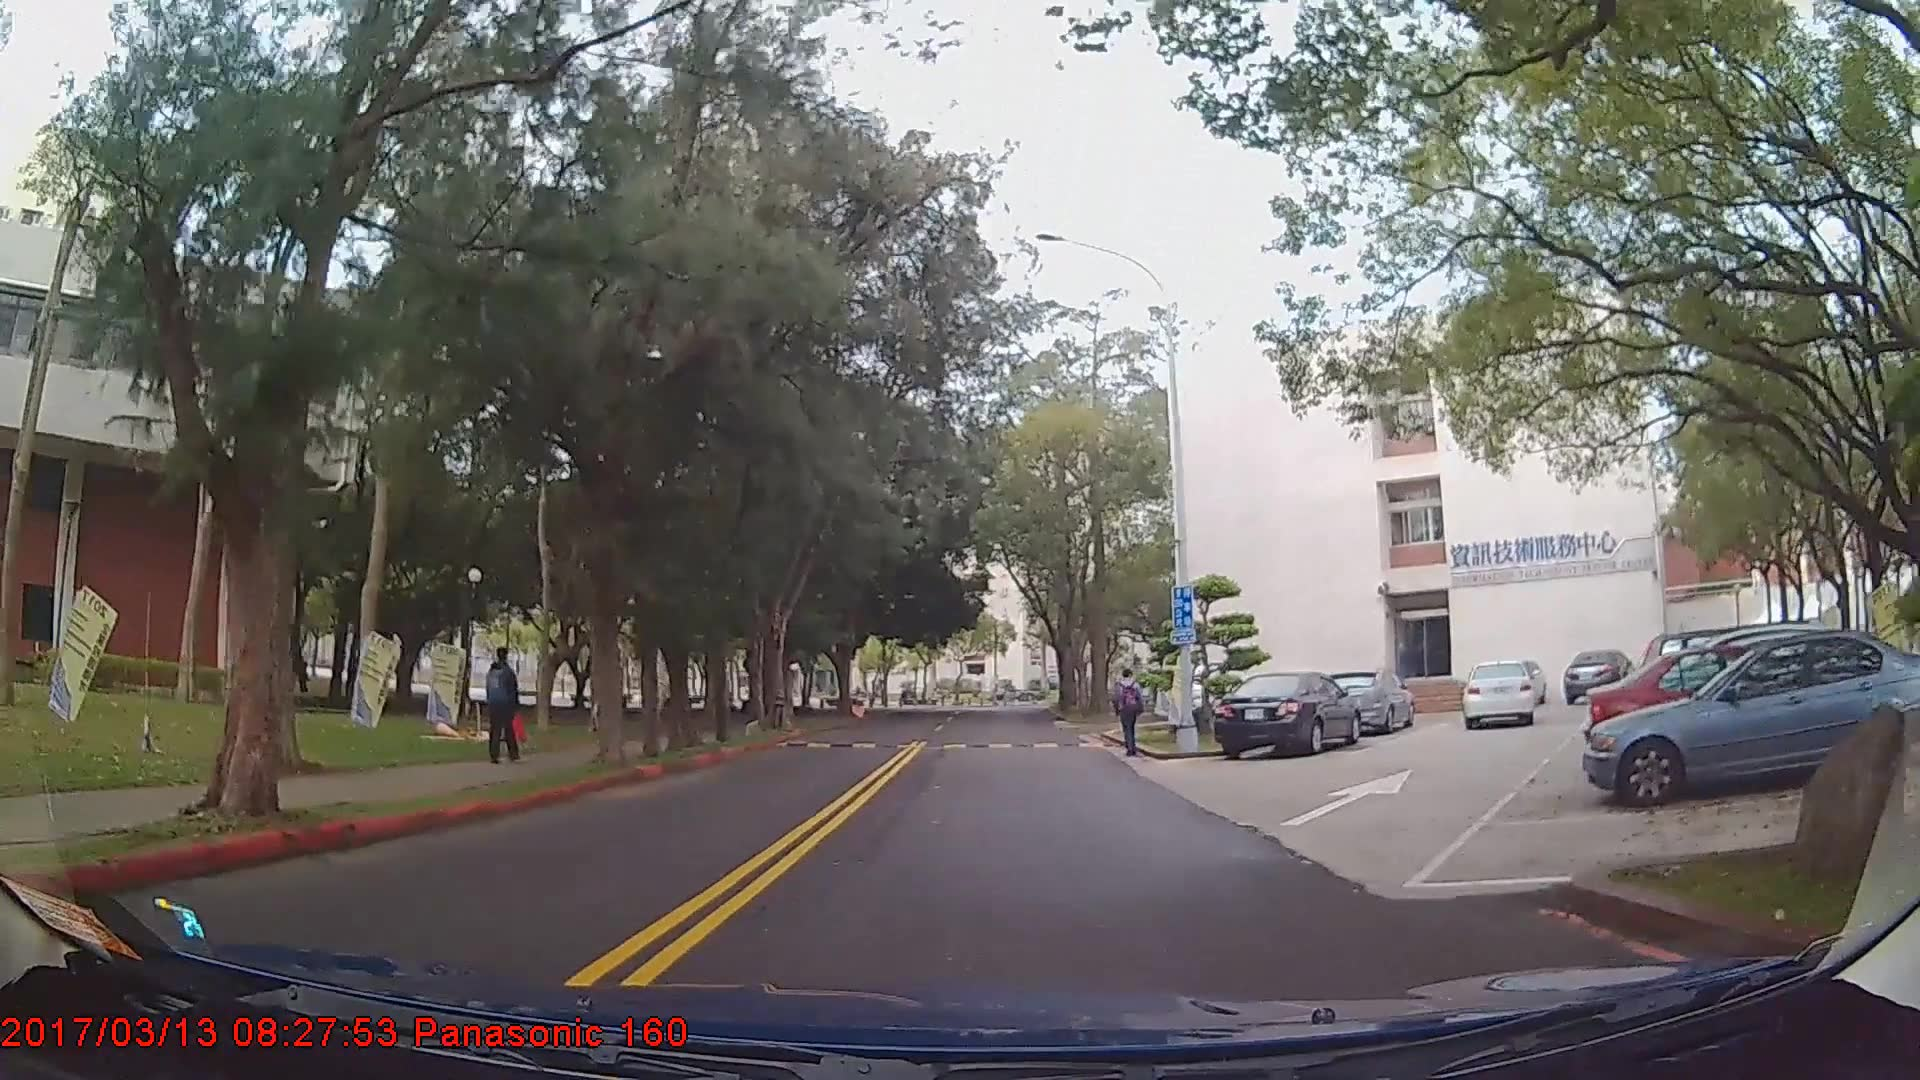pedestrian: (484, 648, 524, 766), (1115, 670, 1147, 759)
vehicle: (1582, 629, 1920, 812), (1584, 635, 1905, 766), (1214, 670, 1362, 759), (1322, 665, 1414, 733), (1463, 661, 1535, 728), (1562, 647, 1631, 702)
